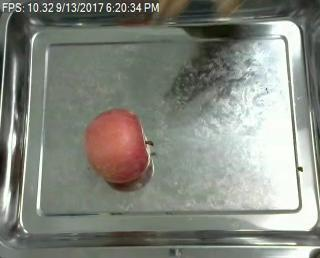apple: (84, 109, 152, 184)
